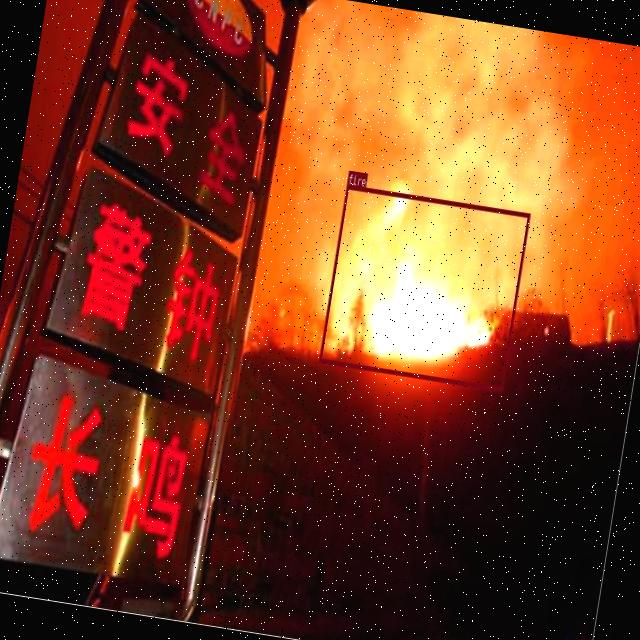fire: (319, 184, 530, 391)
